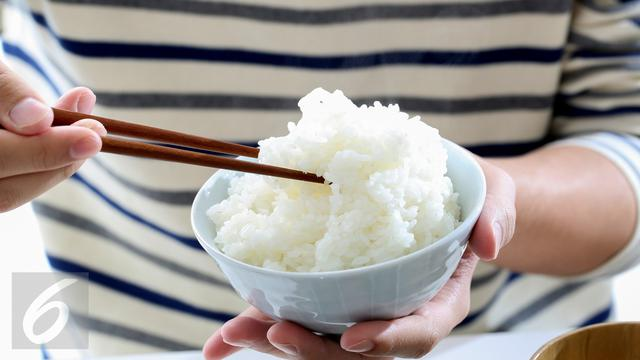Nasi Putih: (180, 79, 481, 318)
